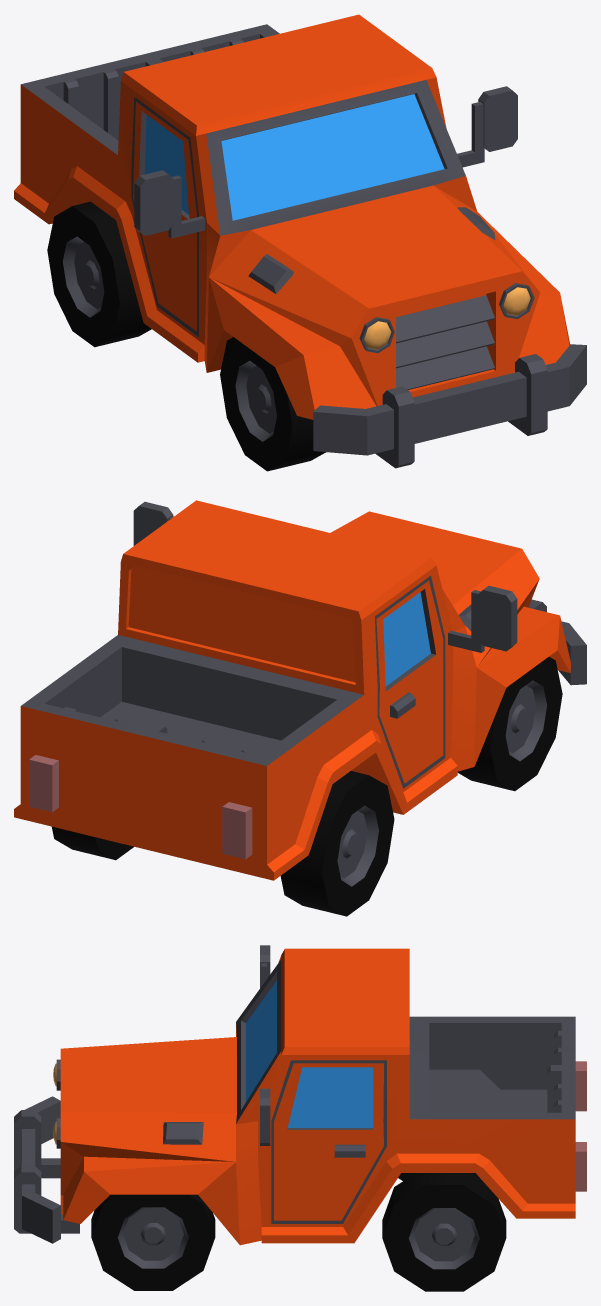
Rendered from Jeep.fbx.
3 renders of one model, top to bottom at view 1: azimuth 30°, elevation 25°; view 2: azimuth 150°, elevation 25°; view 3: azimuth 270°, elevation 25°, orthographic. The views are drawn at different scales.
Visible parts, largest first — view 1: Jeep; view 2: Jeep; view 3: Jeep.
Part boxes in pixels (x1,y1,x2,y2): Jeep: (14,14,586,471); Jeep: (14,500,586,916); Jeep: (14,945,586,1291).
Size of the model in its own units: 92.04 by 64.59 by 142.
